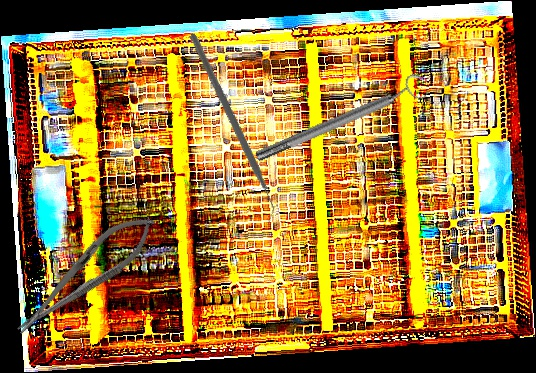Chopper: (126, 32, 334, 226)
Fixation Ring: (250, 70, 431, 170)
Needle Holder: (4, 202, 166, 347)
